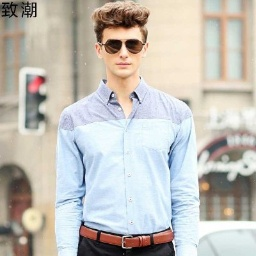face: (91, 2, 152, 80)
